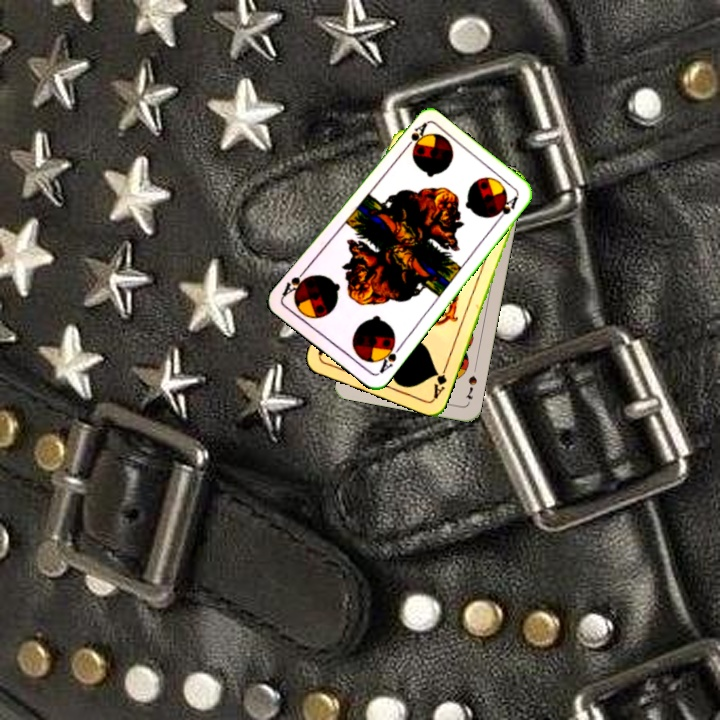GA: (429, 361, 450, 401)
S7: (462, 371, 479, 402)
SA: (374, 337, 404, 376), (398, 119, 429, 154)
